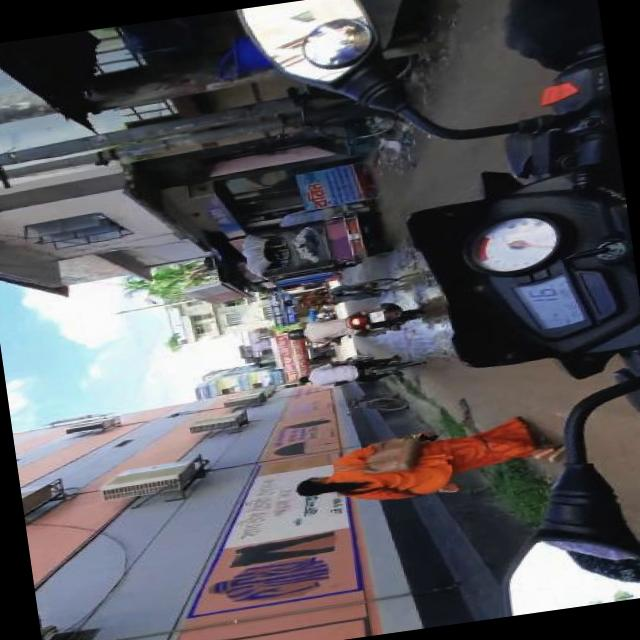motorcycle: (394, 0, 640, 617), (243, 210, 393, 284), (284, 297, 422, 353)
